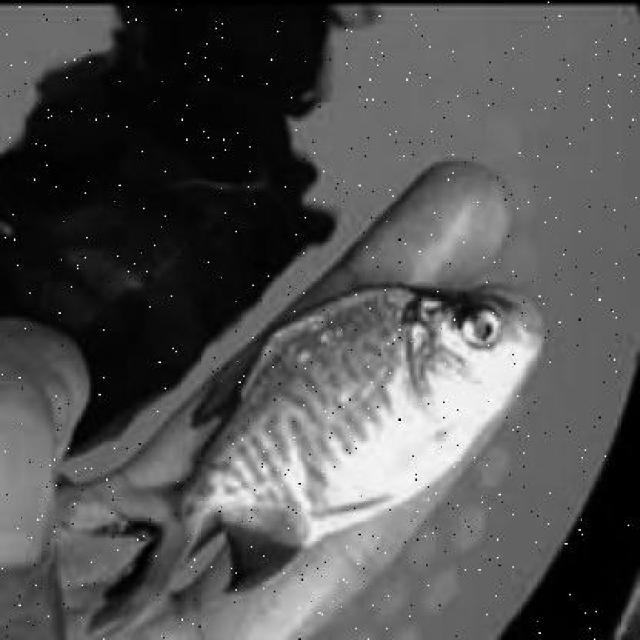ikan-pacu: (141, 288, 527, 582)
